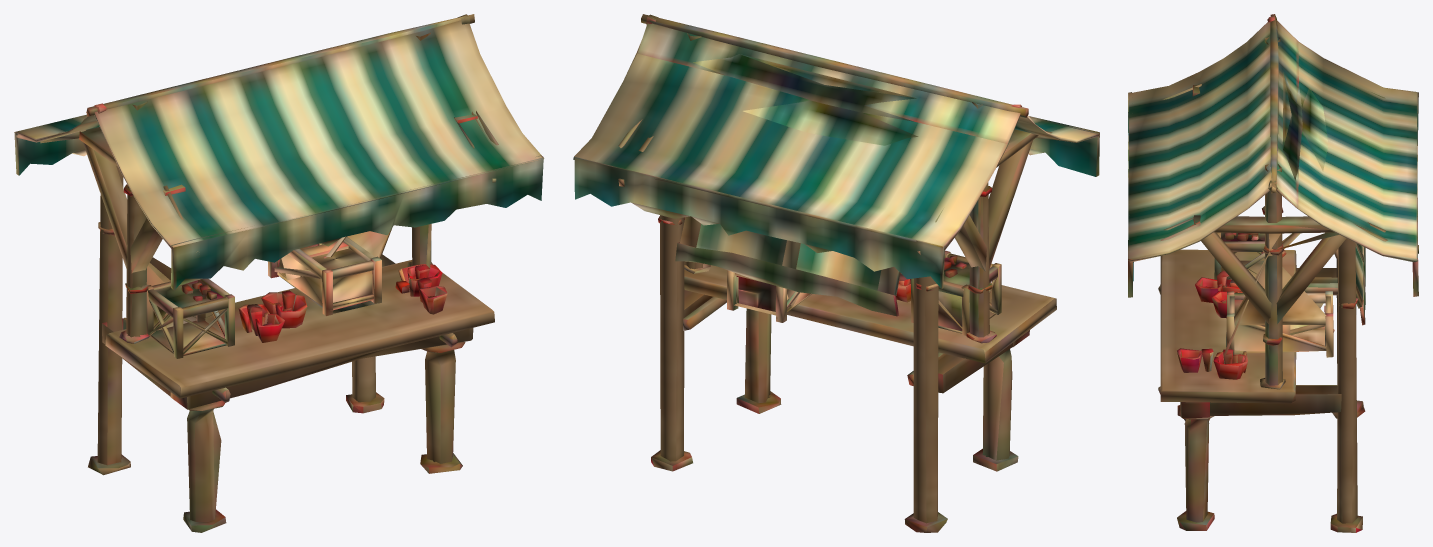
Rendered from market-stall.lod2.glb.
3 renders of one model, left to right at view 1: azimuth 30°, elevation 25°; view 2: azimuth 150°, elevation 25°; view 3: azimuth 270°, elevation 25°, orthographic. The views are drawn at different scales.
Bounding box in the file's own units: 2.6 × 2.6 × 1.85.
Materials: 1 (1 with a texture image).
